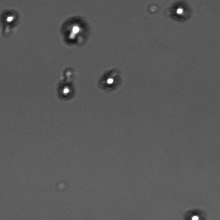Living Cell: (60, 16, 91, 47), (99, 69, 120, 90), (56, 81, 76, 101), (170, 2, 190, 22), (1, 9, 20, 26)
